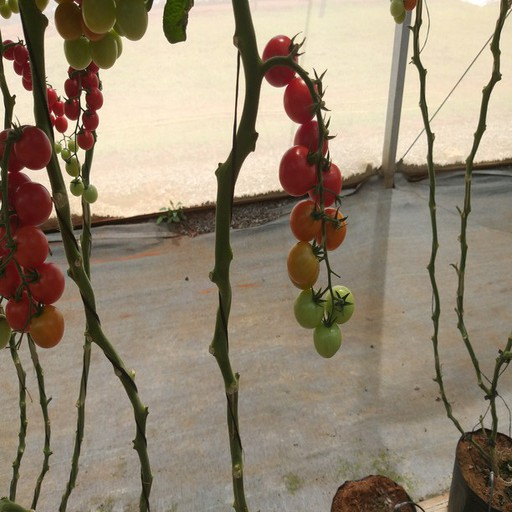green tomato bunch: (55, 1, 148, 70)
red tomato bunch: (263, 35, 356, 358), (1, 125, 66, 348), (1, 37, 67, 130), (66, 63, 104, 152)
